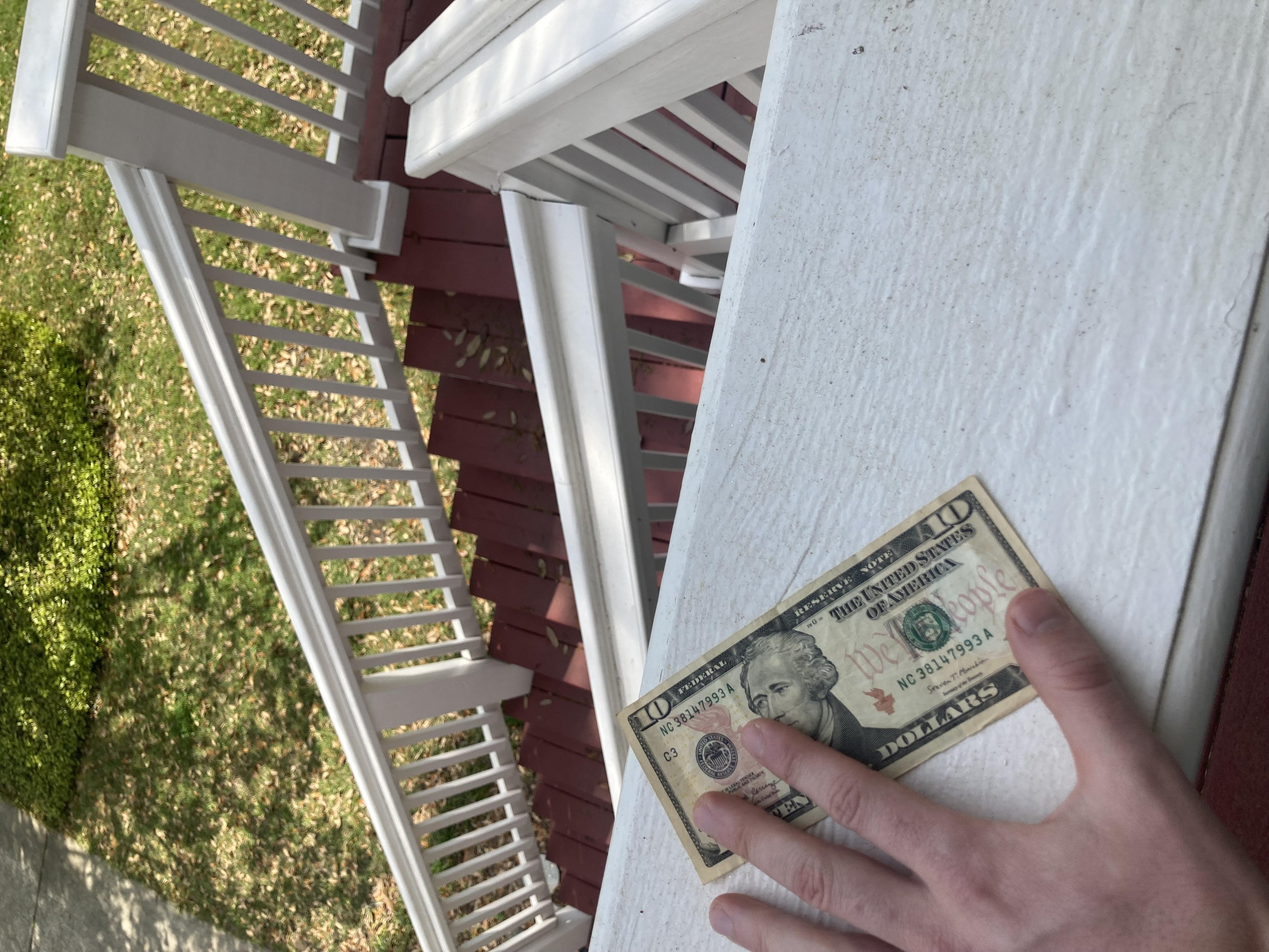ten-front: (87, 462, 638, 828)
